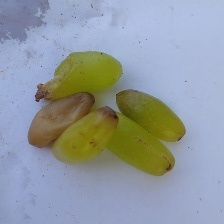grapes: (13, 11, 191, 192)
